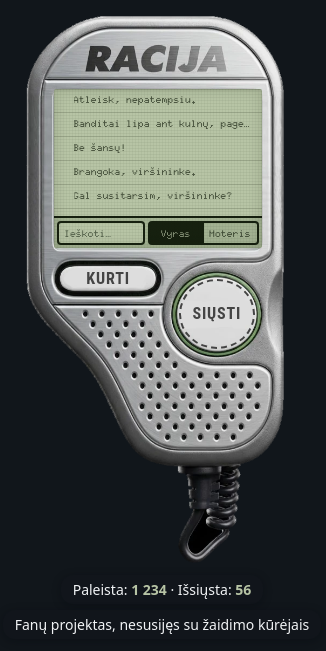
Scenario: Radio › KURTI mode (speech) › PALEISTI unlocks audio synchronously, generates, plays as "tts", counts one play
Click the button with class "skey" showing "KURTI": coordinates (108, 279) [55,261,161,296]
Wait 50 ms
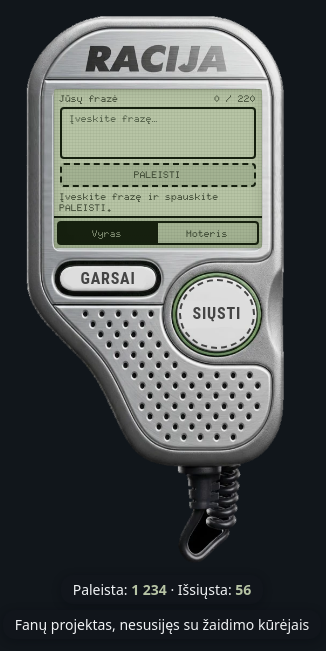
In the text box labelled "Jūsų frazė": coordinates (158, 132) [60,106,256,158], type "Labas, kaip sekasi?"
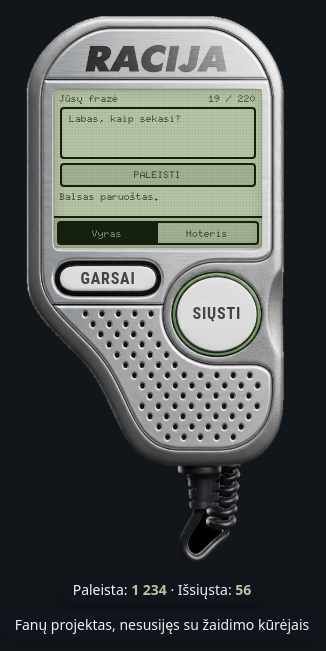
Click the button "PALEISTI": coordinates (158, 174) [60,162,256,186]
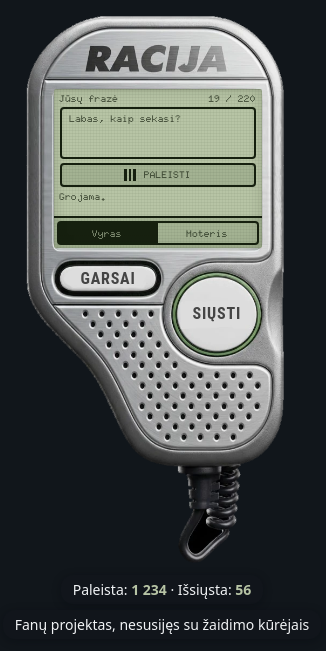
expect the text "Grojama." is shown: met, box [60,190,107,202]
